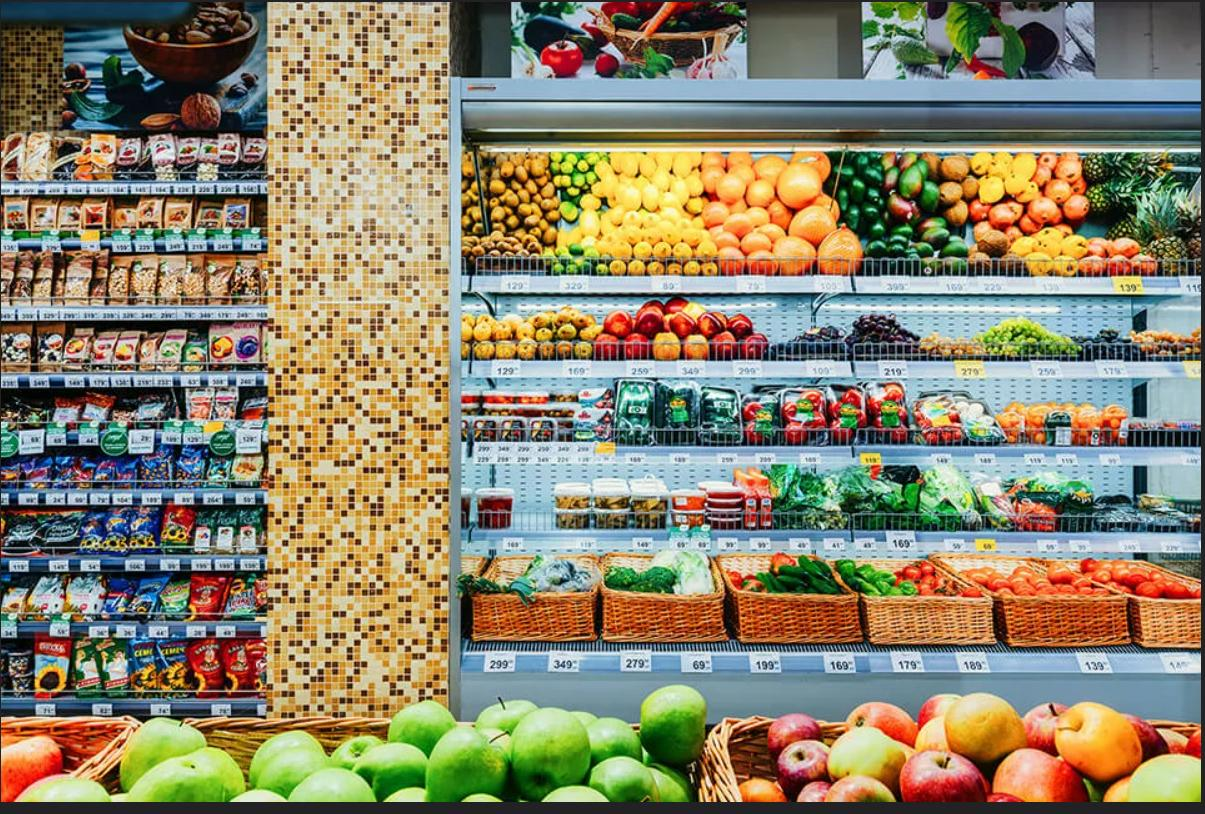cucumber: (758, 552, 838, 609)
grapes: (982, 312, 1078, 366), (844, 310, 923, 364), (773, 321, 850, 365), (1128, 328, 1205, 364), (1068, 326, 1141, 362), (921, 328, 988, 363)
green apple: (28, 684, 736, 814)
lemon: (608, 216, 726, 278)
orange: (716, 218, 776, 275)
pear: (470, 298, 592, 370)
pineapple: (1127, 191, 1204, 284)
pomegranate: (1076, 236, 1155, 282)
red apple: (732, 671, 1205, 814)
sweet pepper: (844, 554, 918, 610), (724, 548, 796, 602)
tomato: (964, 559, 1113, 604), (1076, 556, 1201, 602), (898, 555, 980, 619)
